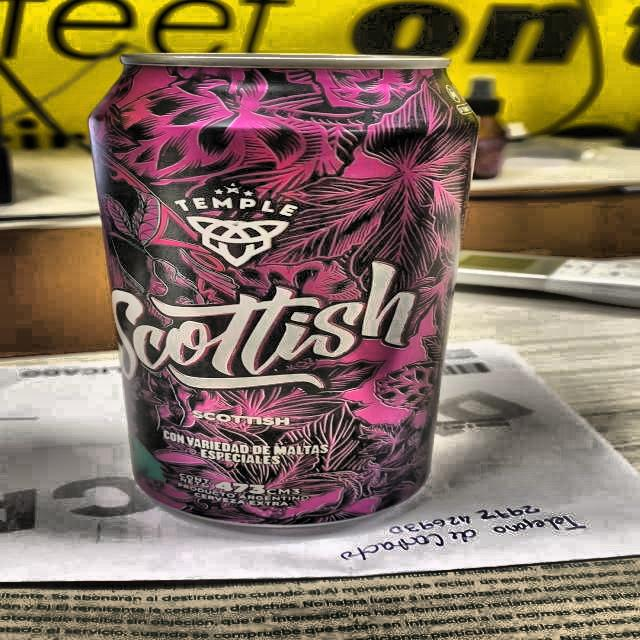can: (79, 40, 483, 540)
